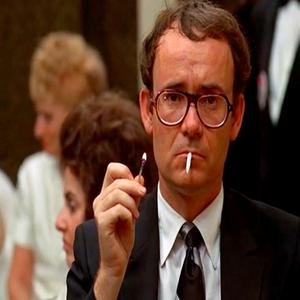cigarette: (185, 150, 192, 175)
